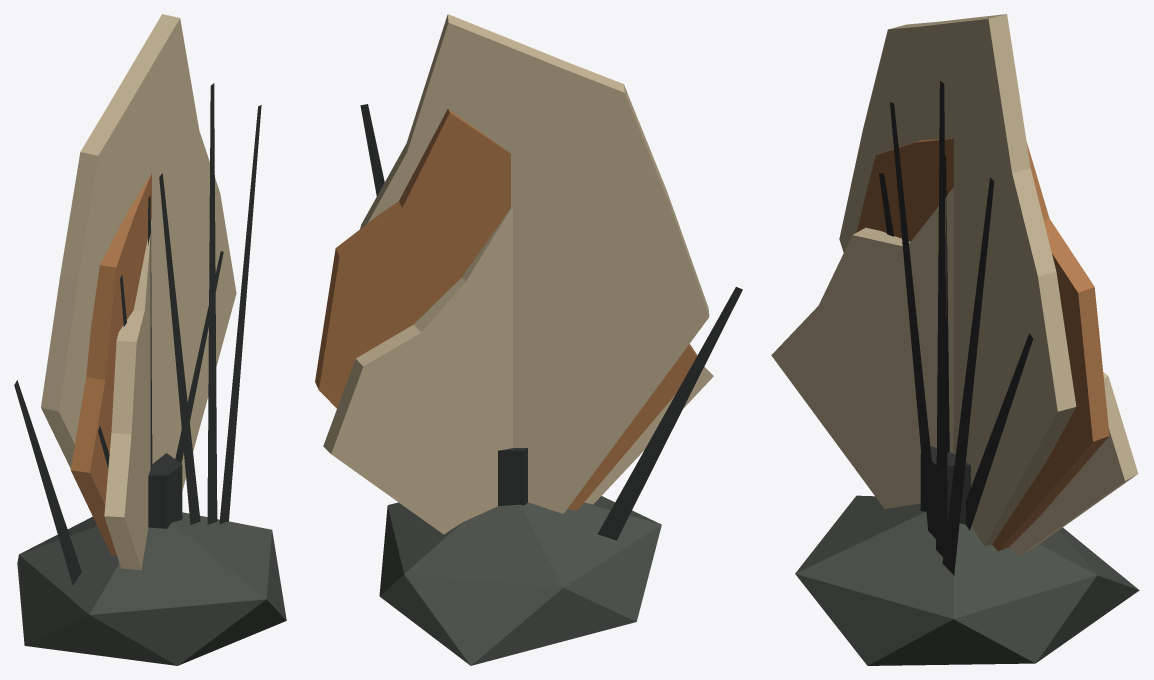
Rendered from fan_b.glb.
3 renders of one model, left to right at view 1: azimuth 30°, elevation 25°; view 2: azimuth 150°, elevation 25°; view 3: azimuth 270°, elevation 25°, orthographic. The views are drawn at different scales.
Visible parts, largest first — view 1: fan_b; view 2: fan_b; view 3: fan_b.
Part boxes in pixels (bbox=[...]): fan_b: bbox=[14, 14, 286, 665]; fan_b: bbox=[315, 14, 742, 665]; fan_b: bbox=[771, 14, 1139, 665].
Bounding box in the file's own units: 0.7231 × 1.25 × 0.6712.
